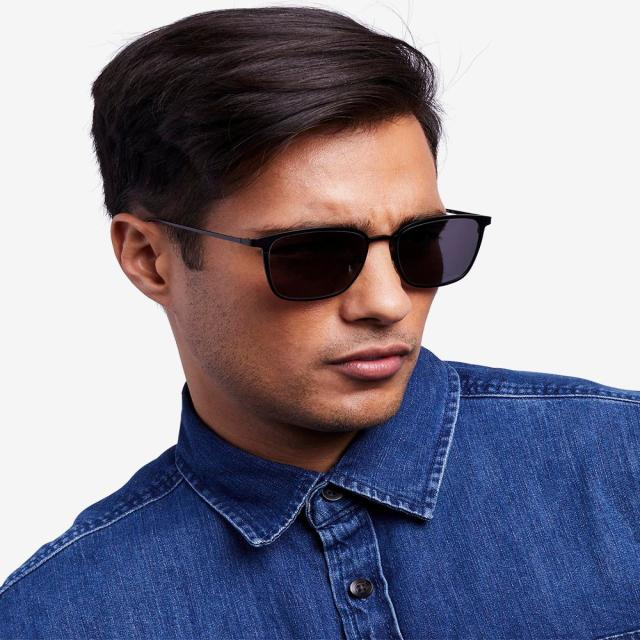2_gafas: (144, 208, 492, 302)
